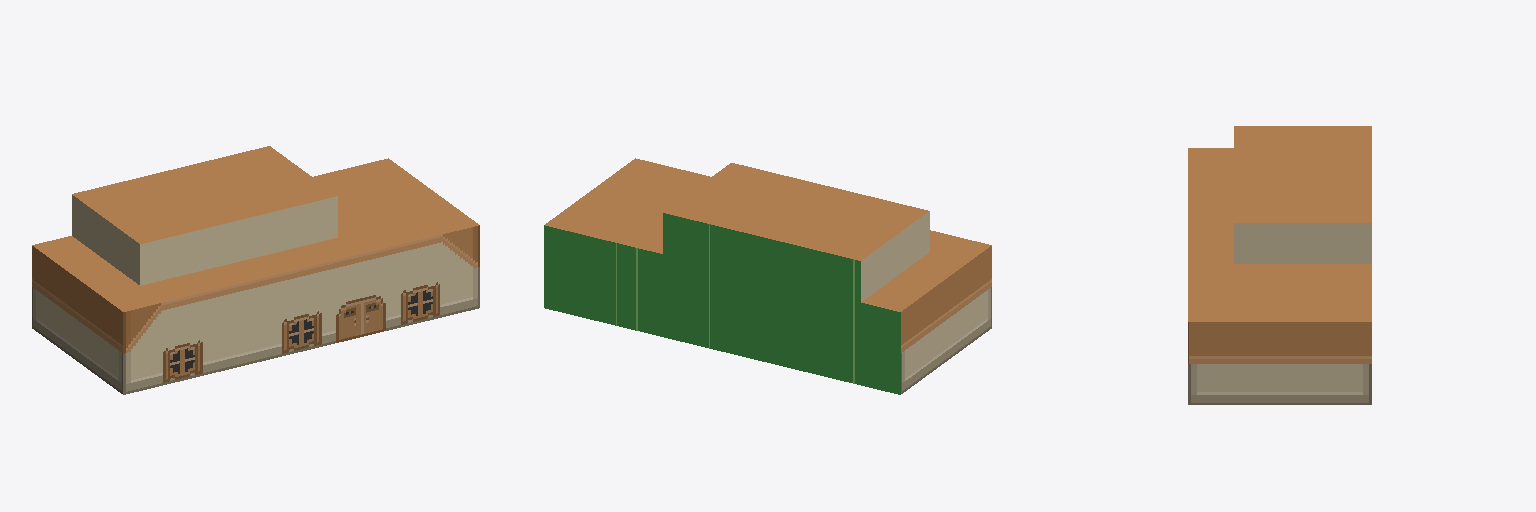
The picture shows the model from 3 angles: view 1: azimuth 30°, elevation 25°; view 2: azimuth 150°, elevation 25°; view 3: azimuth 270°, elevation 25°; orthographic projection.
Parts seen in each view (by area): view 1: Grid_Grid.001; view 2: Grid_Grid.001; view 3: Grid_Grid.001.
Boxes of the visible parts, <box> form: Grid_Grid.001: <box>32,146,479,394</box>; Grid_Grid.001: <box>544,158,991,394</box>; Grid_Grid.001: <box>1188,126,1371,404</box>.
Size of the model in its own units: 5.76 by 1.92 by 2.56.
Materials: 2 (2 with a texture image).